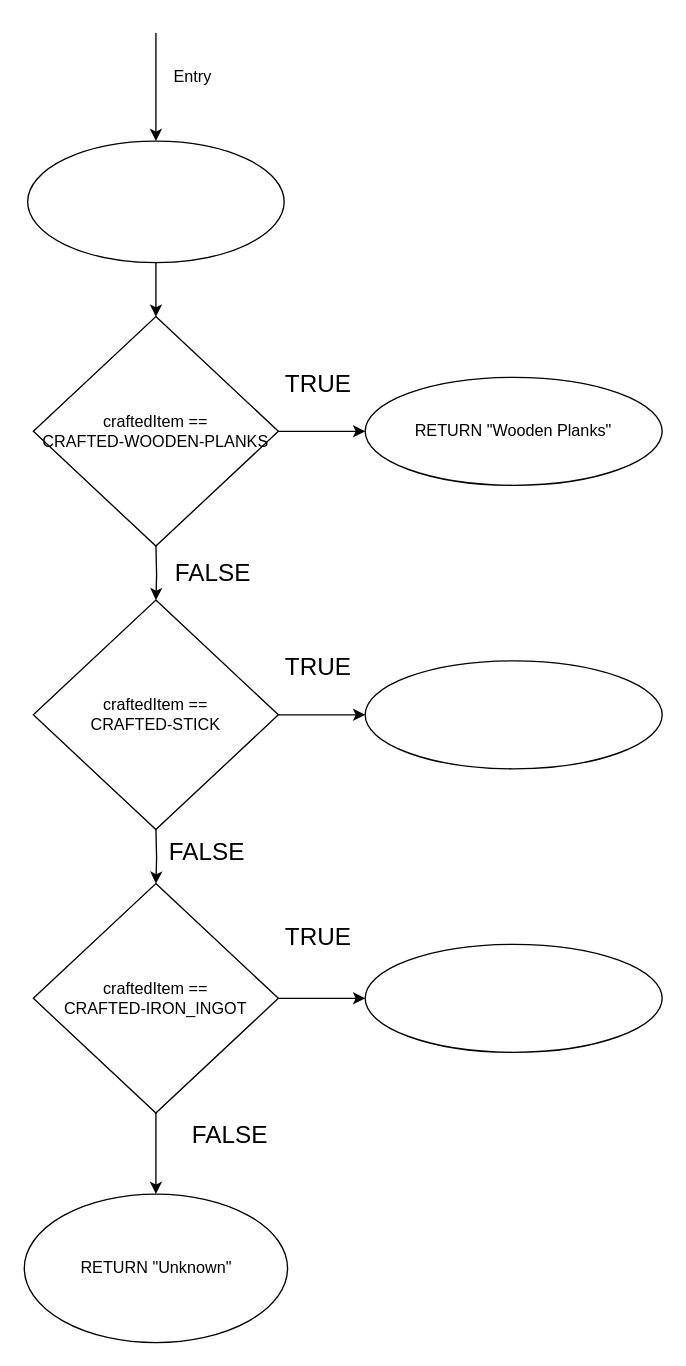
This 686x1366 diagram has some shape labels left out. The centre of each missing label's shape, as x and y in pixels:
parameters(craftedItem): point (155, 201)
RETURN "Stick": point (513, 714)
RETURN CRAFTED-IRON_INGOT: point (513, 997)
